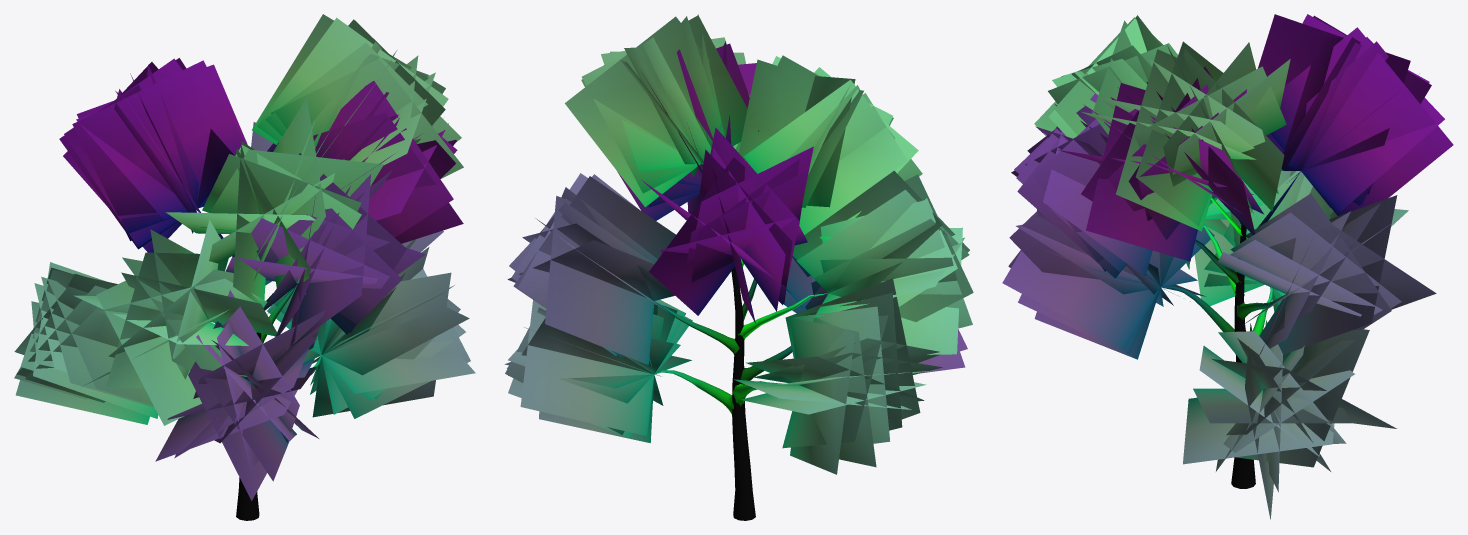
File: URP_P6_Tree_2_LOD_2.fbx
3 renders of one model, left to right at view 1: azimuth 30°, elevation 25°; view 2: azimuth 150°, elevation 25°; view 3: azimuth 270°, elevation 25°, orthographic. The views are drawn at different scales.
Parts seen in each view (by area): view 1: Tree_2_LOD_2; view 2: Tree_2_LOD_2; view 3: Tree_2_LOD_2.
Boxes of the visible parts, <box> form: Tree_2_LOD_2: <box>14,14,475,520</box>; Tree_2_LOD_2: <box>504,14,973,520</box>; Tree_2_LOD_2: <box>1002,14,1453,519</box>.
Size of the model in its own units: 530 by 575 by 482.
